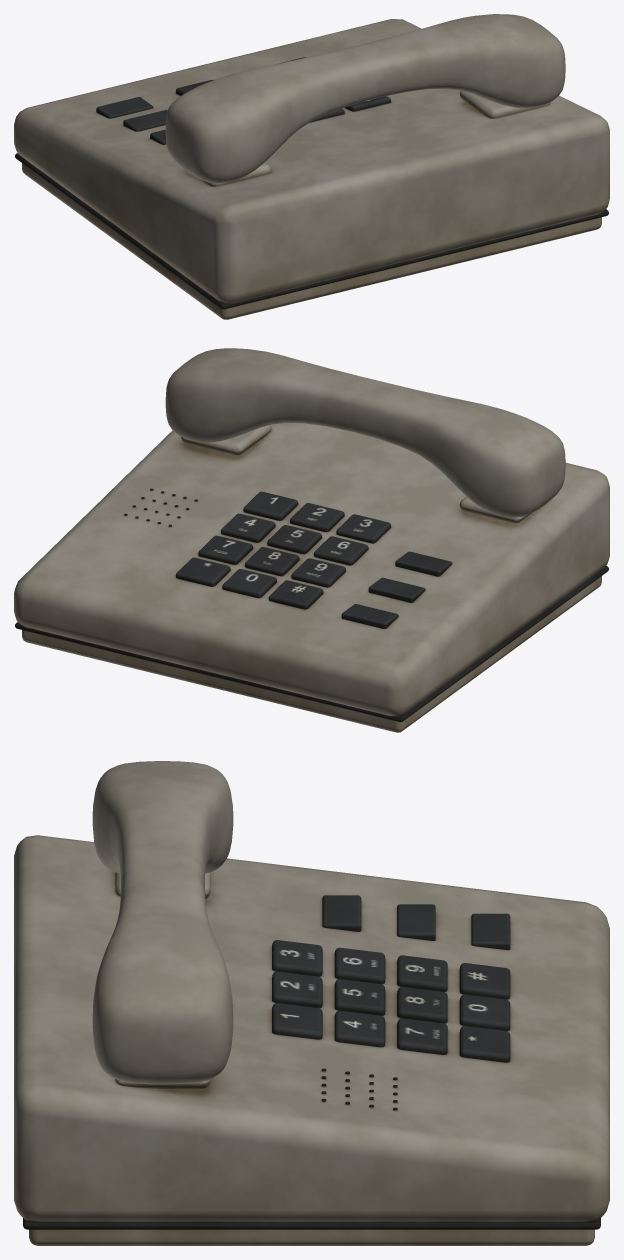
The model's file is telefone_sujo_realista.glb.
3 views of the same model, one above another, from view 1: azimuth 30°, elevation 25°; view 2: azimuth 150°, elevation 25°; view 3: azimuth 270°, elevation 25° (orthographic). The views are drawn at different scales.
Parts seen in each view (by area): view 1: Base, Fone; view 2: Base, Fone; view 3: Base, Fone.
Boxes of the visible parts, x1,y1,x2,y2 form: Base: (14,19,609,319); Fone: (165,14,565,183); Base: (14,423,609,732); Fone: (165,348,565,517); Base: (14,835,609,1245); Fone: (92,761,233,1084).
Bounding box in the file's own units: 0.212 × 0.0973 × 0.2.
1 material, 1 textured.
